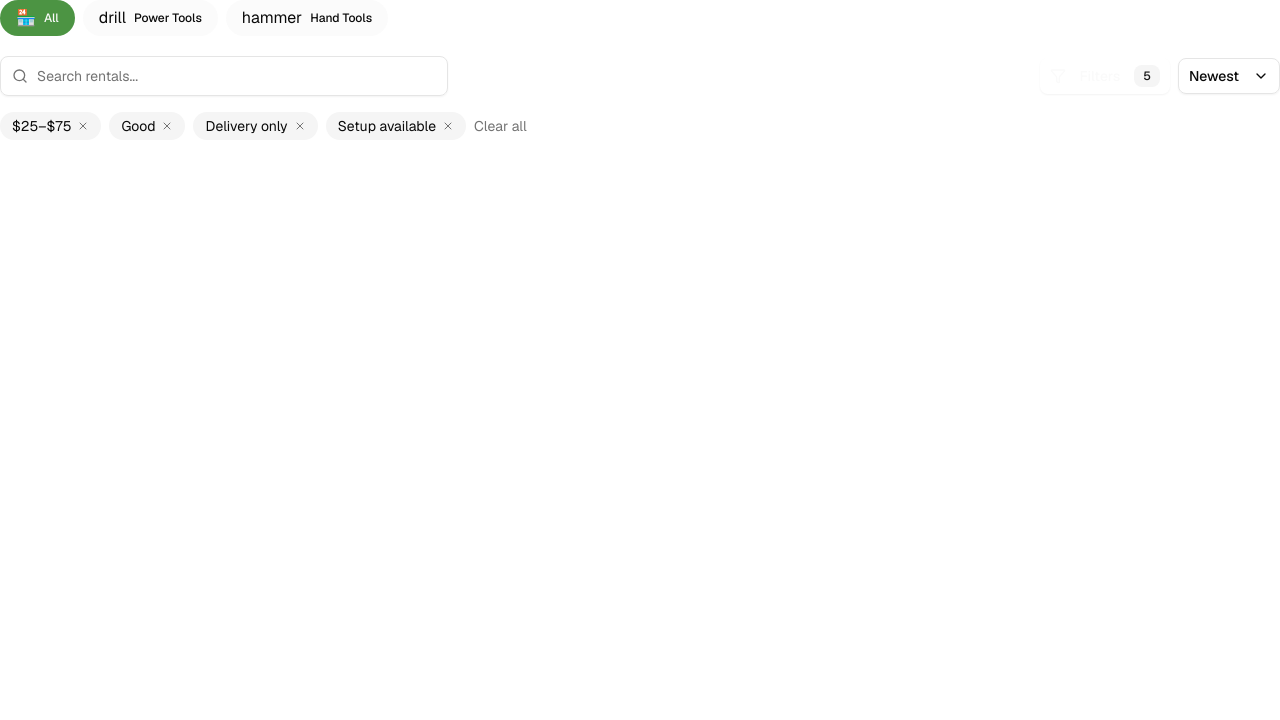
Scenario: ExplorePageFilters › Filters Sheet › should sync local state with filters when sheet opens
The image size is (1280, 720).
What coordinates should you click on to do the following:
click the button "Filters 5"
I would click on:
 (1105, 76)
Its box is [1040,58,1170,94].
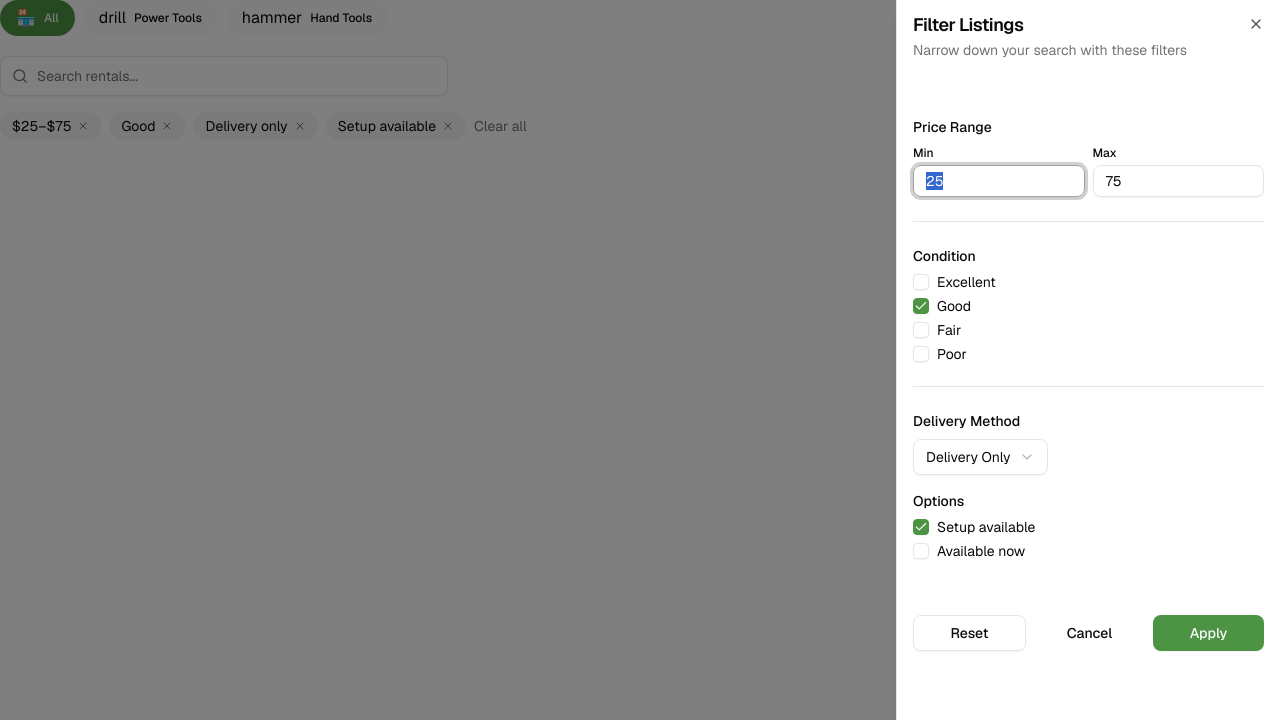
Expected: the field showing "25" is shown, [913,165,1084,197]
Expected: the field showing "75" is shown, [1092,165,1264,197]
